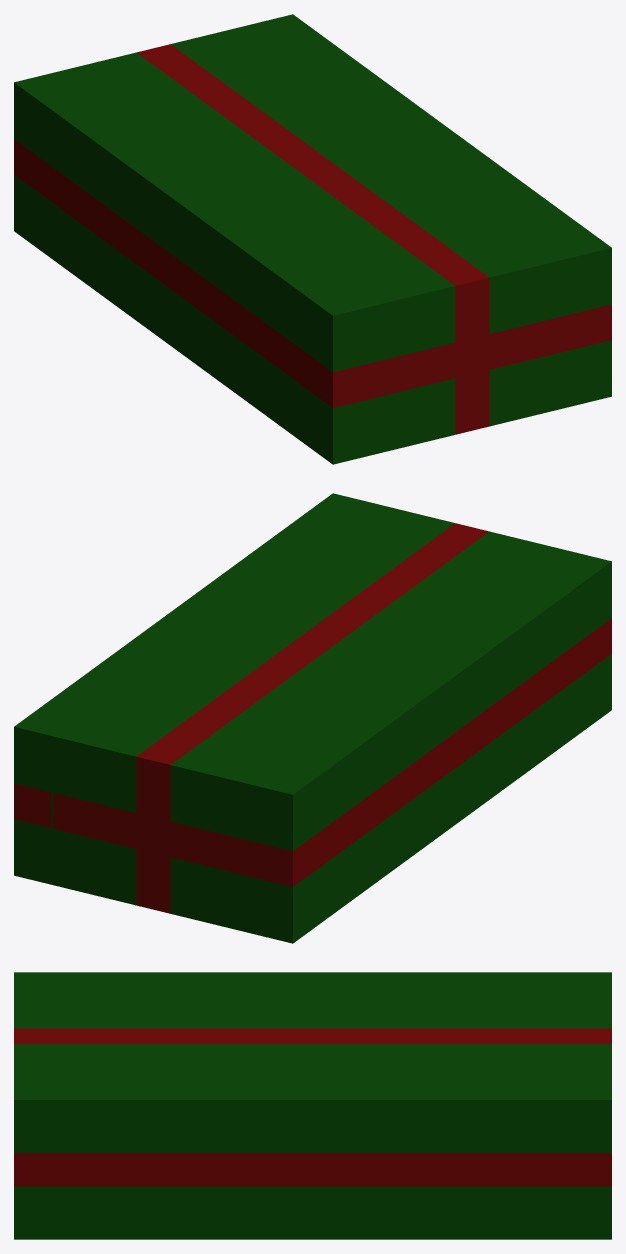
Rendered from Present4.fbx.
3 renders of one model, top to bottom at view 1: azimuth 30°, elevation 25°; view 2: azimuth 150°, elevation 25°; view 3: azimuth 270°, elevation 25°, orthographic. The views are drawn at different scales.
Visible parts, largest first — view 1: Cube; view 2: Cube; view 3: Cube.
Boxes of the visible parts, left/top/right/bottom form: Cube: left=14, top=14, right=611, bottom=464; Cube: left=14, top=493, right=611, bottom=943; Cube: left=14, top=972, right=611, bottom=1239.
Size of the model in its own units: 204 by 104 by 404.
